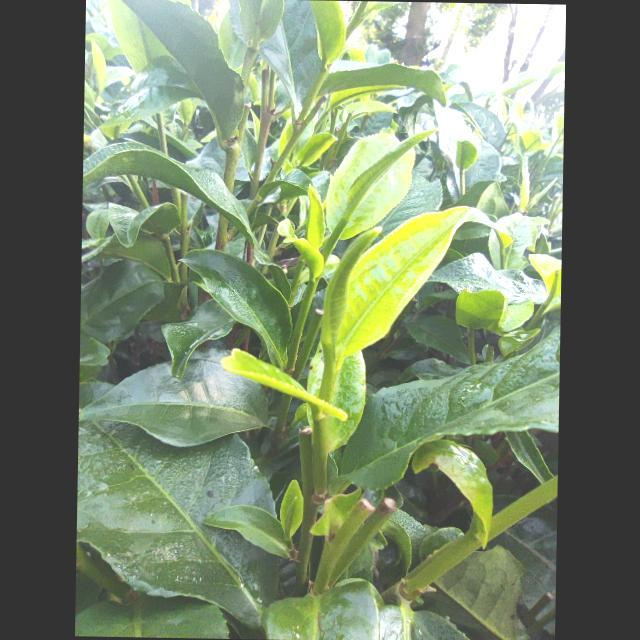Stem: (314, 419, 327, 438)
